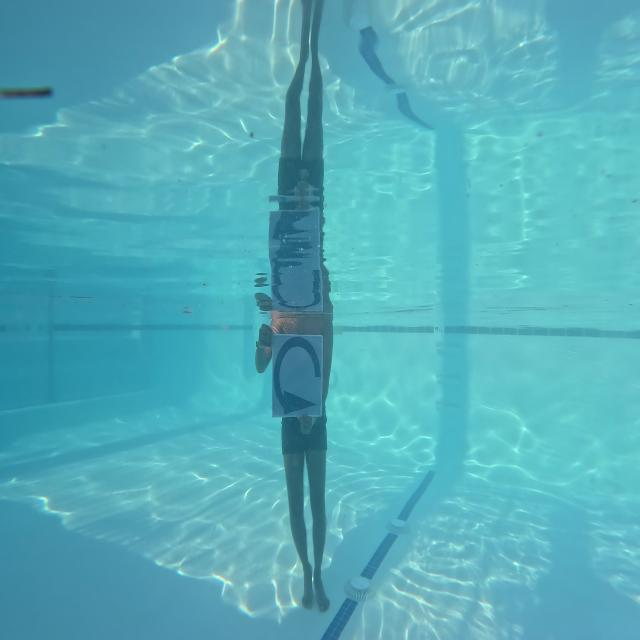blue_side: (262, 324, 333, 438)
